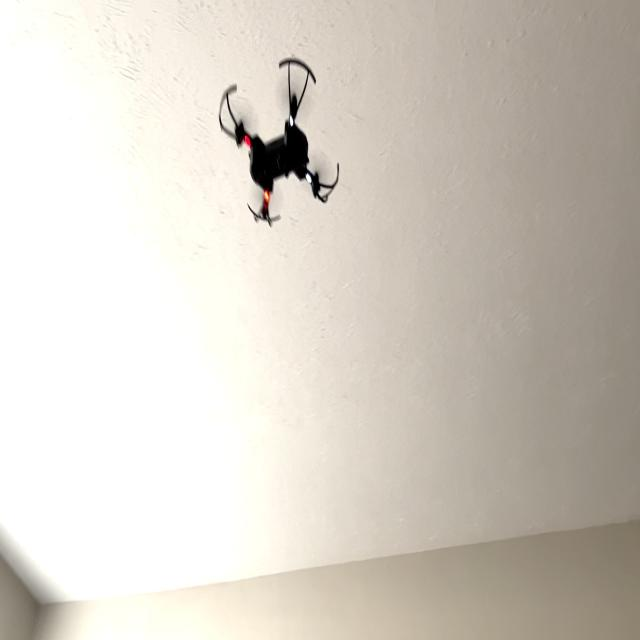drone: (212, 42, 346, 237)
